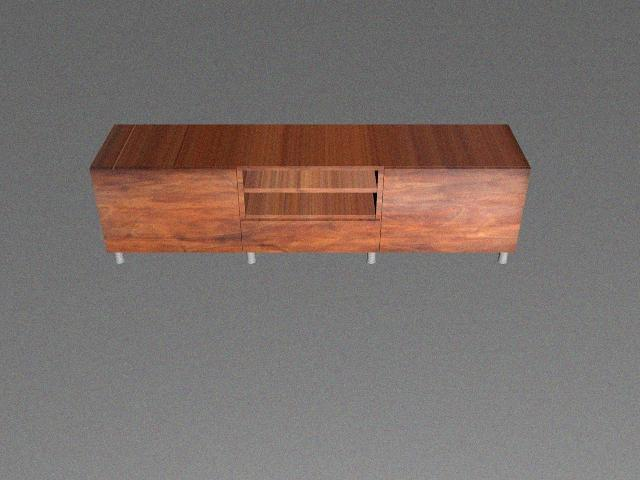cabinet_door: (382, 169, 524, 253), (98, 169, 240, 253), (242, 220, 381, 253)
